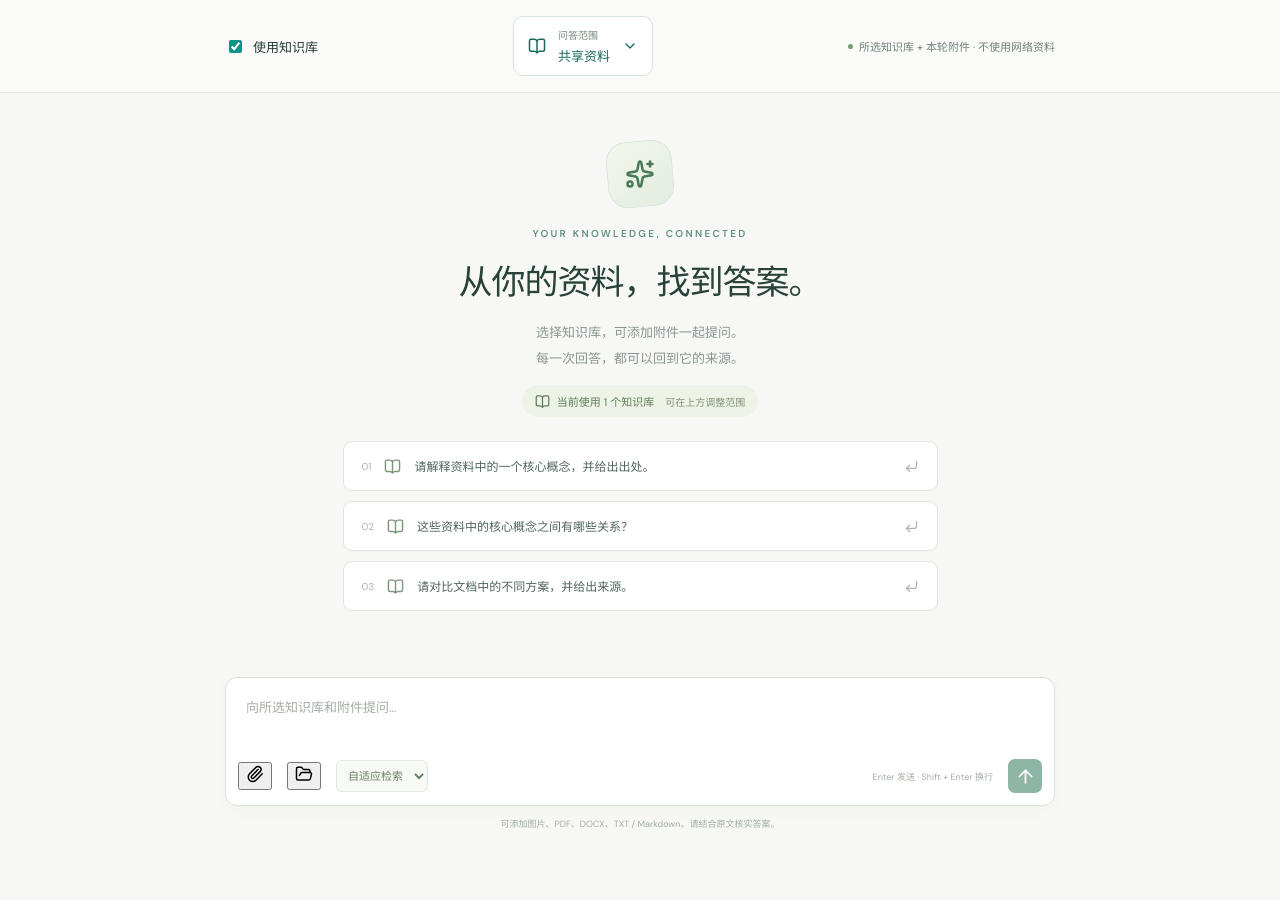
Scenario: new chat clears an in-flight history loading state
Expected: the text "正在读取会话与知识库…" is shown, [342,138,938,611]
Expected: the heading "从你的资料，找到答案。" is shown, [458,260,822,305]
Type "new question" into the text box named "输入问题" at (640, 714), box [226,678,1054,750]
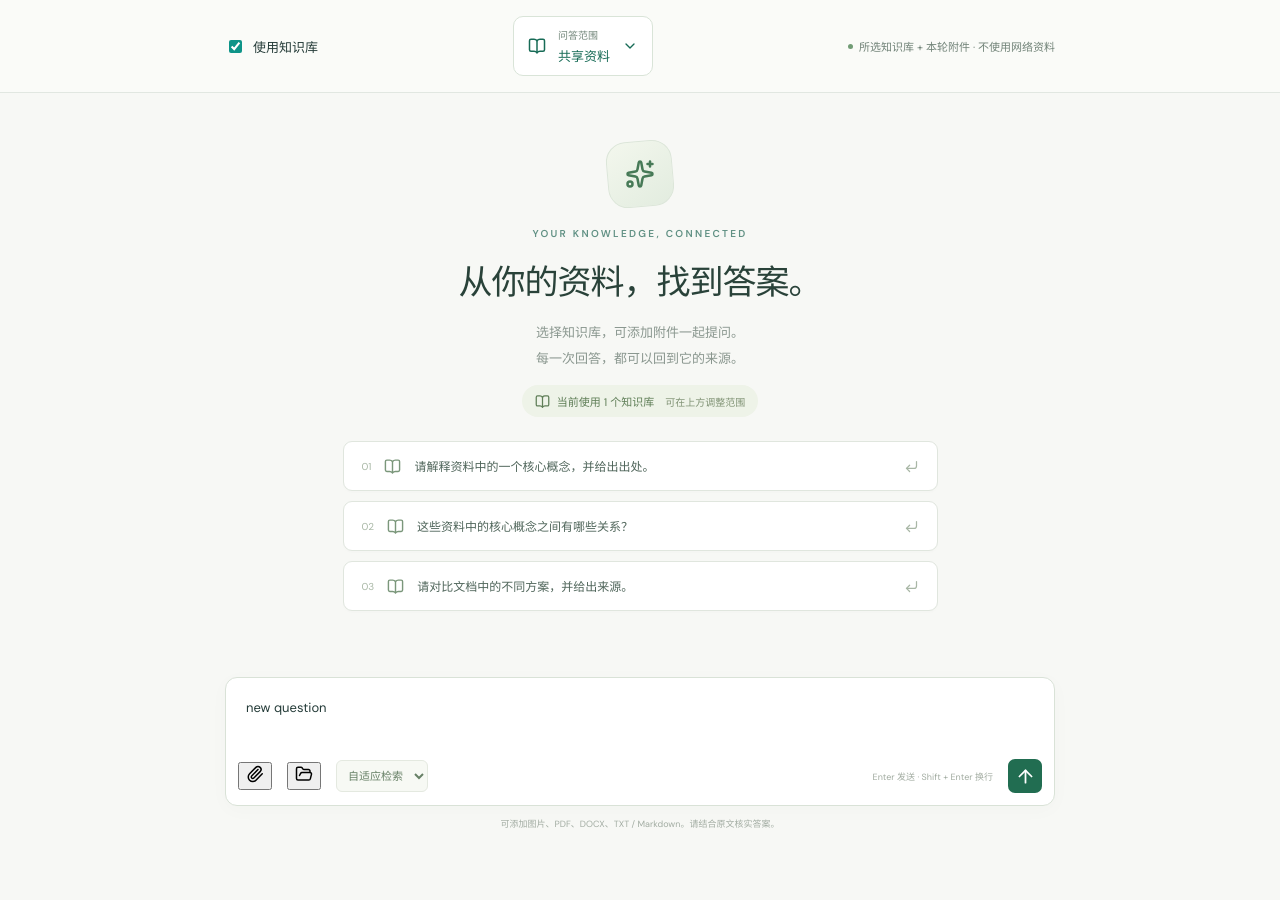
Expected: the button named "发送问题" is enabled, [1008,759,1042,793]
